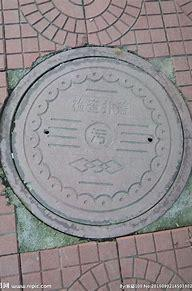wellcover: (12, 51, 192, 235)
